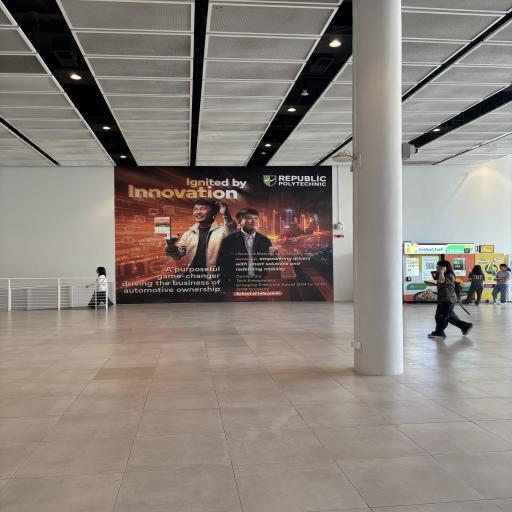person_left: (420, 254, 478, 351), (84, 264, 118, 310)
